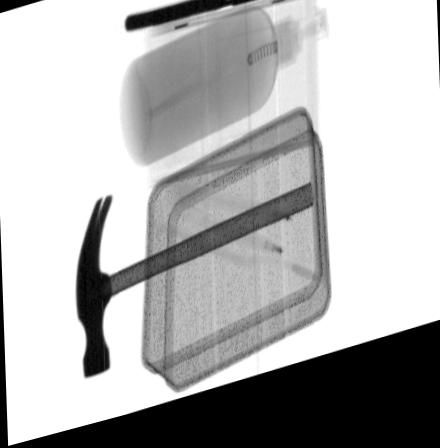Hammer: (75, 197, 315, 382)
Pliers: (125, 0, 275, 37)
